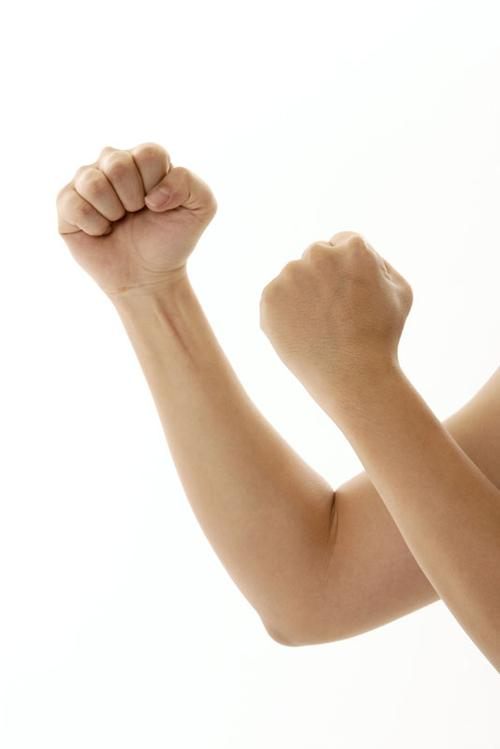no-phone: (255, 224, 419, 380), (49, 140, 220, 287)
